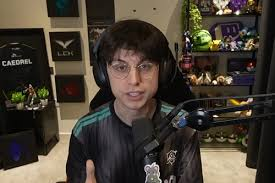person: (64, 18, 205, 182)
